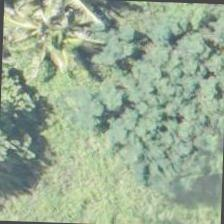Kelapa_Sawit: (1, 0, 93, 85)
